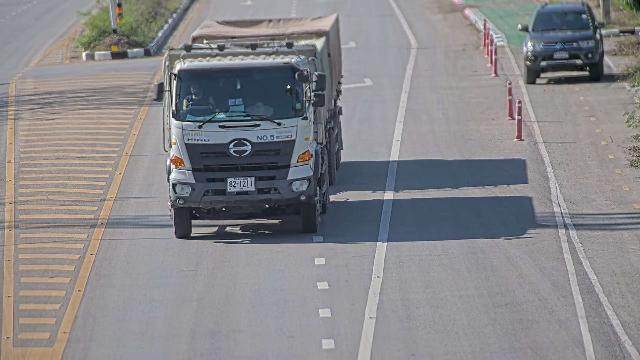pickup-truck: (517, 1, 605, 84)
truck: (154, 12, 351, 240)
